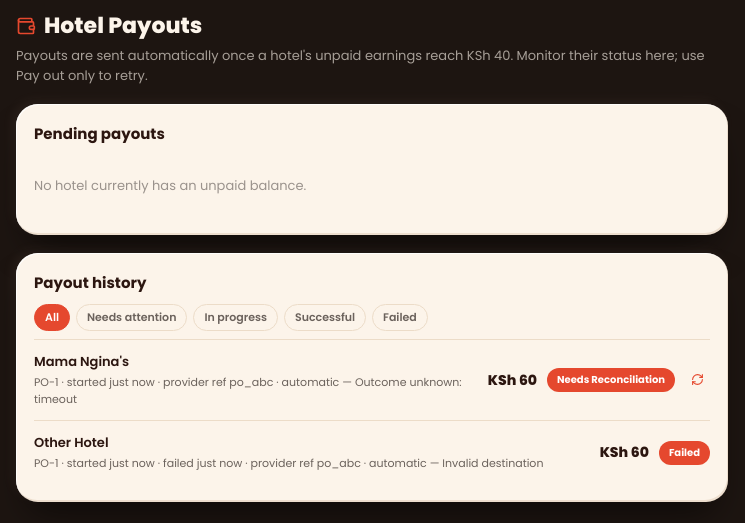
Test: Admin payouts monitoring › shows automatic marker, provider reference, reconciliation label, and filters
Check: the text "needs reconciliation" is shown, box [547,368,675,392]
Check: the text "provider ref po_abc" is shown, box [155,374,273,390]
What coordinates should you click on to do the following:
click the button "Failed"
I would click on:
 (400, 318)
Its box is [372,304,428,331].
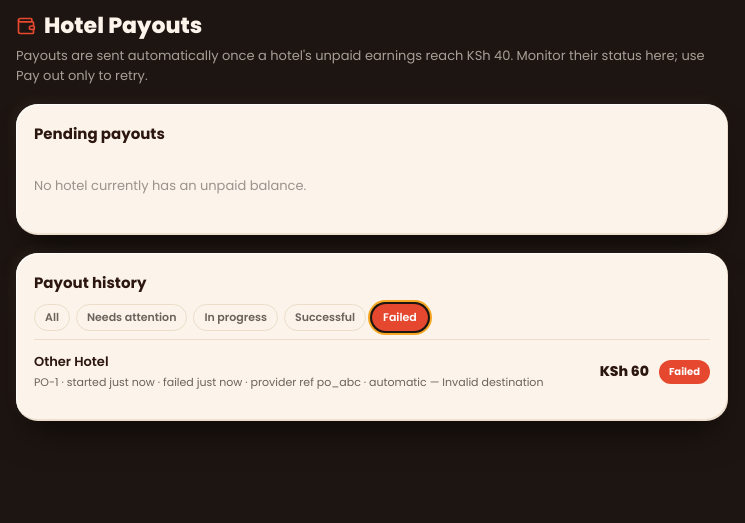
Check: the text "Other Hotel" is shown, box [34,352,108,371]
Check: the text "needs reconciliation" is gone
